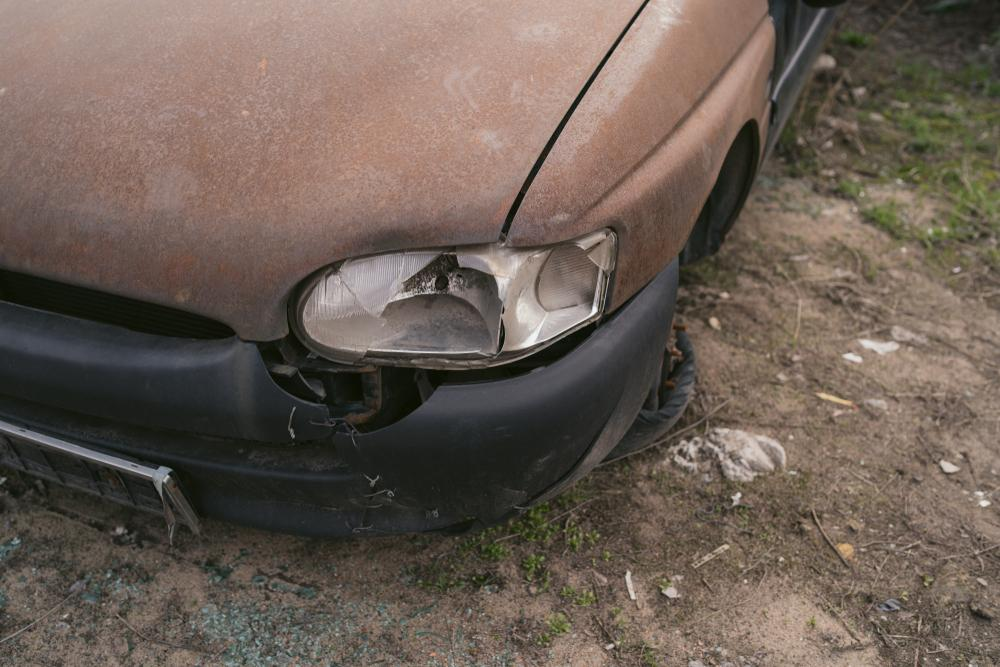lamp broken: (296, 231, 616, 367)
